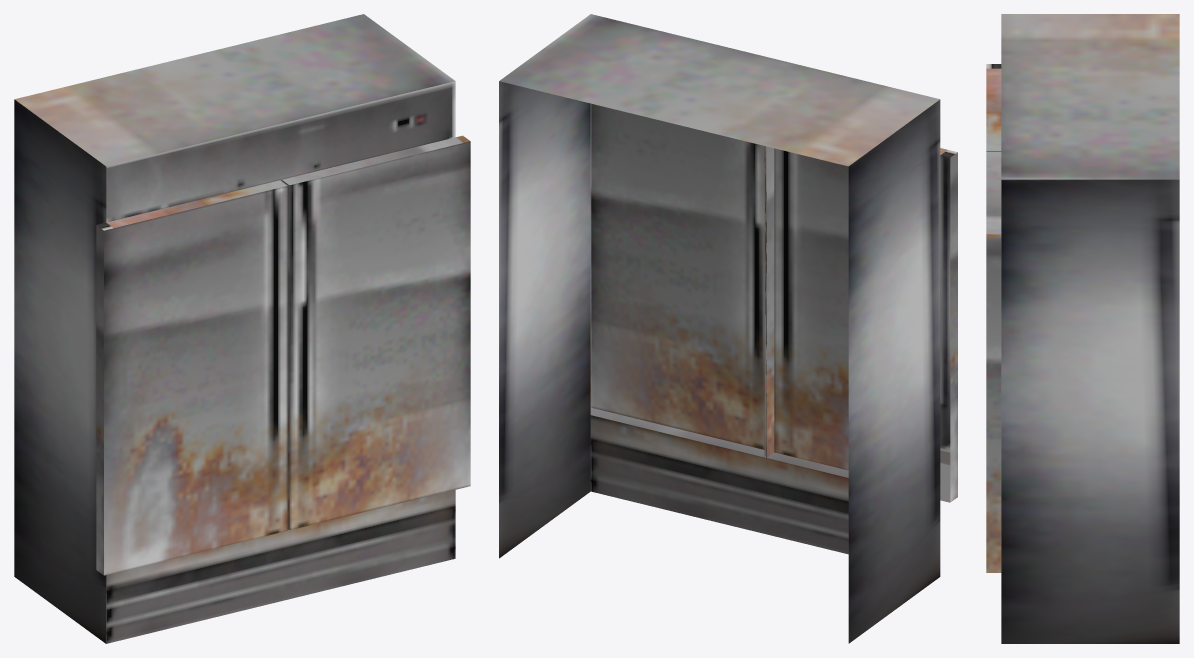
The model's file is kitchen_fridge.FBX.
The picture shows the model from 3 angles, left to right: view 1: azimuth 30°, elevation 25°; view 2: azimuth 150°, elevation 25°; view 3: azimuth 270°, elevation 25°; orthographic projection. The views are drawn at different scales.
Visible parts, largest first — view 1: kitchen_fridge; view 2: kitchen_fridge; view 3: kitchen_fridge.
Boxes of the visible parts, <box> form: kitchen_fridge: <box>14,14,470,643</box>; kitchen_fridge: <box>499,14,957,643</box>; kitchen_fridge: <box>986,14,1179,643</box>.
Size of the model in its own units: 106 by 132 by 49.7.
